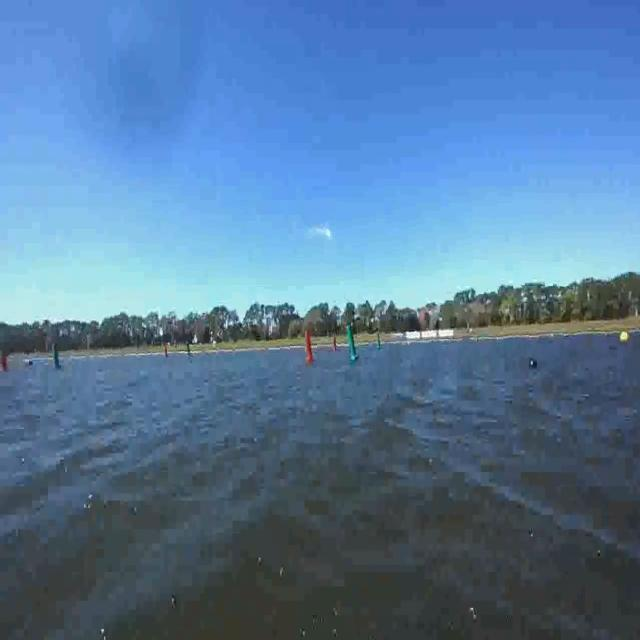black-buoy: (527, 353, 537, 370)
green-column-buoy: (346, 324, 361, 362), (52, 341, 64, 371), (185, 341, 193, 360), (377, 333, 384, 352)
red-column-buoy: (302, 330, 314, 364), (0, 348, 9, 372), (162, 342, 169, 360), (331, 336, 338, 354)
yellow-buoy: (620, 327, 630, 345)
